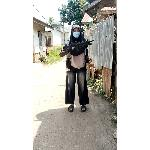Senapan: (60, 37, 100, 54)
